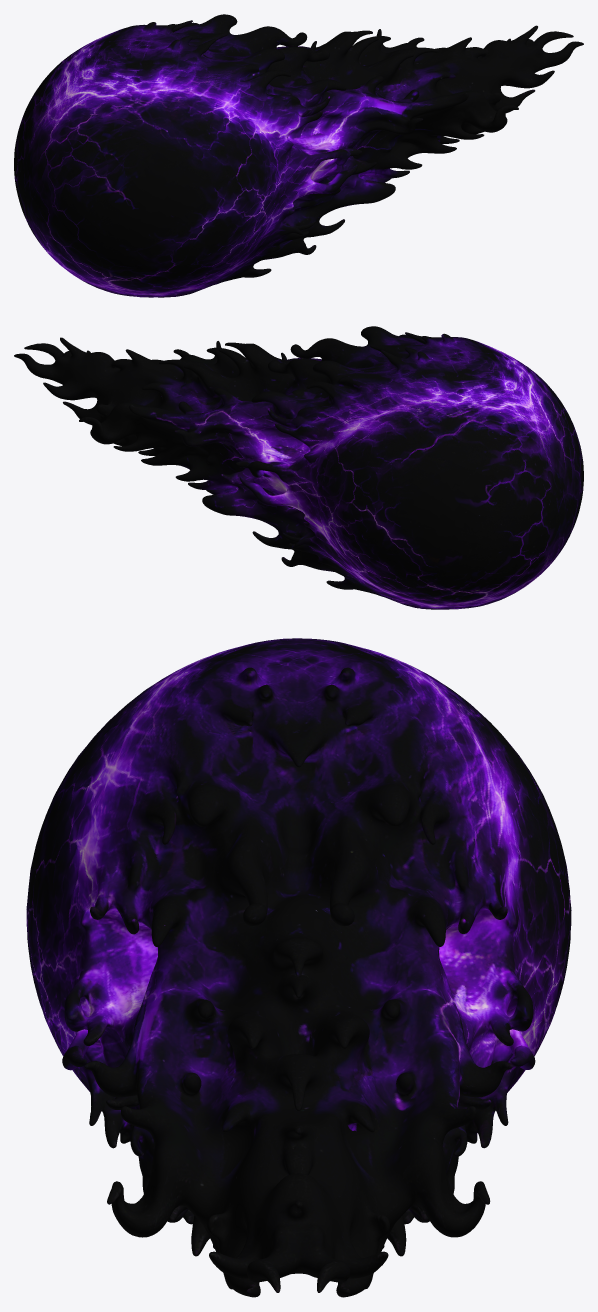
The model's file is Shadow.glb.
3 renders of one model, top to bottom at view 1: azimuth 30°, elevation 25°; view 2: azimuth 150°, elevation 25°; view 3: azimuth 270°, elevation 25°, orthographic. The views are drawn at different scales.
Bounding box in the file's own units: 1.9 × 0.8412 × 0.8188.
Materials: 1 (1 with a texture image).
